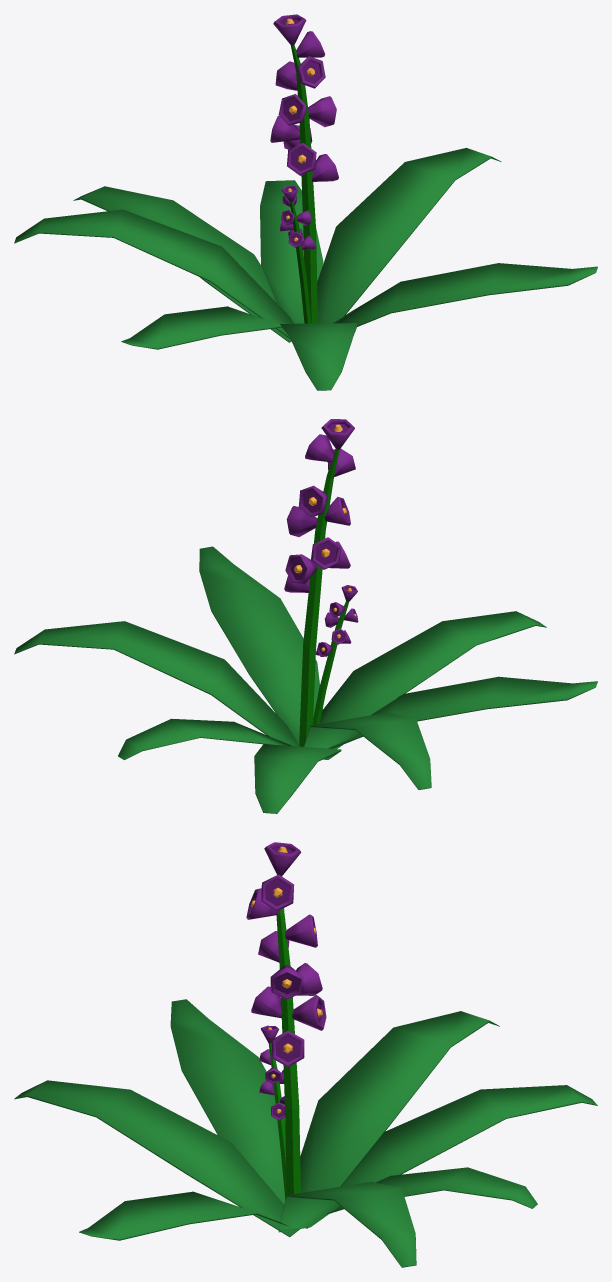
File: Flower2.fbx
3 renders of one model, top to bottom at view 1: azimuth 30°, elevation 25°; view 2: azimuth 150°, elevation 25°; view 3: azimuth 270°, elevation 25°, orthographic. The views are drawn at different scales.
Parts seen in each view (by area): view 1: Plane.022, Cone.006, Cylinder.004, Cone.011, Cylinder.005; view 2: Plane.022, Cone.006, Cylinder.004, Cone.011, Cylinder.005; view 3: Plane.022, Cone.006, Cylinder.004, Cone.011, Cylinder.005.
Part boxes in pixels (x1,y1,x2,y2): Plane.022: [14, 148, 597, 390]; Cone.006: [270, 14, 338, 181]; Cylinder.004: [290, 45, 317, 323]; Cone.011: [280, 185, 315, 249]; Cylinder.005: [290, 201, 311, 323]; Plane.022: [14, 546, 597, 813]; Cone.006: [284, 419, 355, 592]; Cylinder.004: [299, 449, 339, 746]; Cone.011: [316, 585, 358, 656]; Cylinder.005: [313, 601, 349, 724]; Plane.022: [14, 999, 597, 1267]; Cone.006: [246, 842, 326, 1066]; Cylinder.004: [276, 876, 300, 1195]; Cone.011: [259, 1025, 284, 1120]; Cylinder.005: [268, 1043, 286, 1199].
Bounding box in the file's own units: 131 × 86.49 × 124.
Materials: 3 (1 with a texture image).
